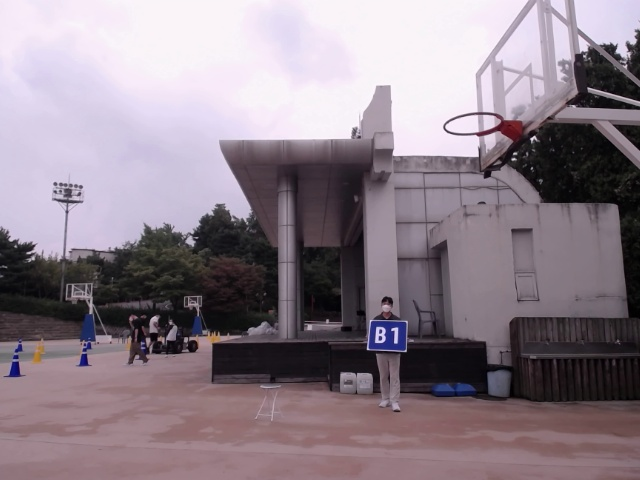delivery_b1: (367, 320, 408, 352)
